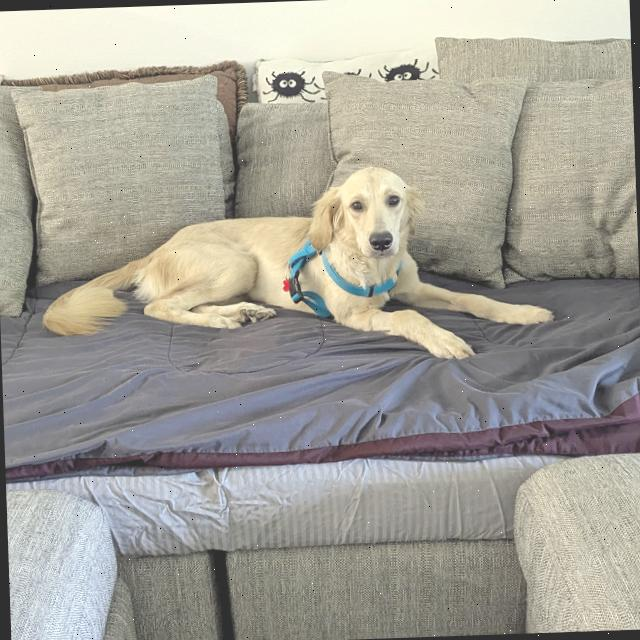golden_retriever_dog: (296, 156, 434, 278)
